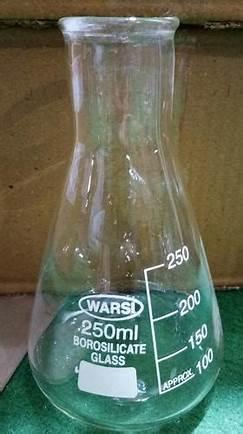Titrarion: (14, 6, 233, 430)
